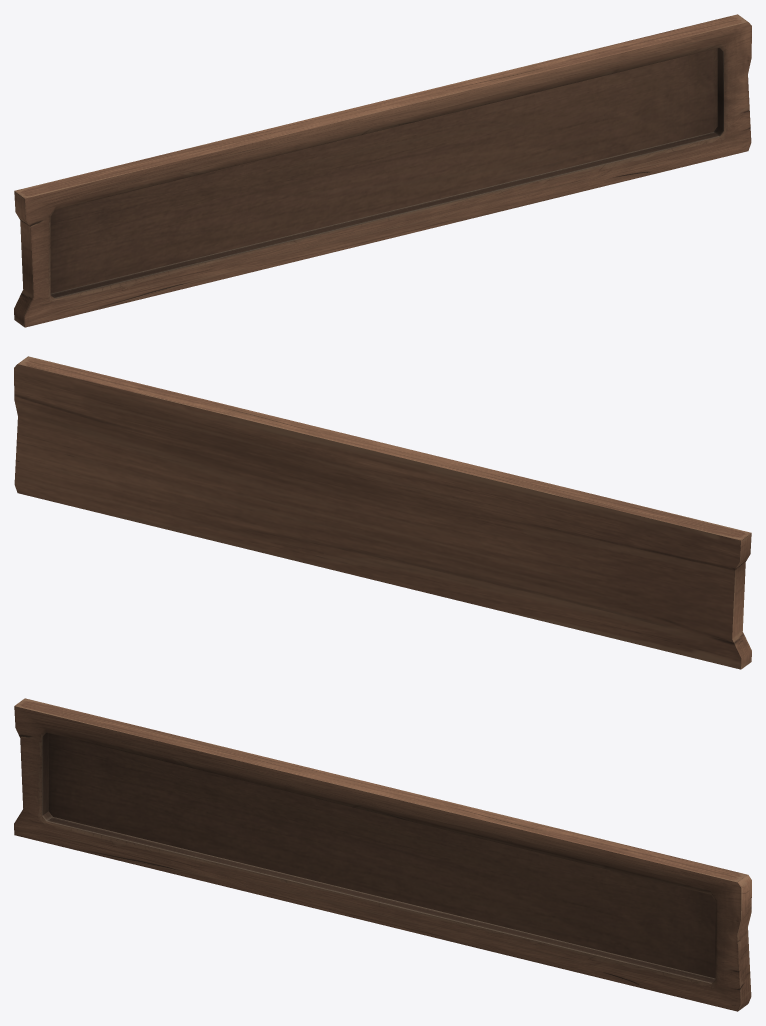
The model's file is UI_3d_button_backgroundSlider.FBX.
3 views of the same model, one above another, from view 1: azimuth 30°, elevation 25°; view 2: azimuth 150°, elevation 25°; view 3: azimuth 330°, elevation 25° (orthographic).
Parts seen in each view (by area): view 1: UI_3d_button_backgroundSlider; view 2: UI_3d_button_backgroundSlider; view 3: UI_3d_button_backgroundSlider.
Part boxes in pixels (bbox=[...]): UI_3d_button_backgroundSlider: bbox=[14, 14, 751, 327]; UI_3d_button_backgroundSlider: bbox=[14, 356, 751, 669]; UI_3d_button_backgroundSlider: bbox=[14, 698, 751, 1011].
Bounding box in the file's own units: 84.12 × 14.27 × 2.13.
Materials: 1 (1 with a texture image).
